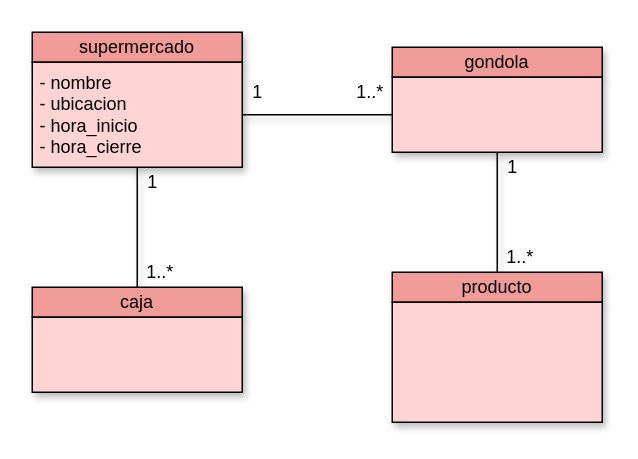
Some shapes in this 638 by 459 pixel diagram are drawn without their labels. Each missing label, with the centre of its shape:
"- identificador - señalización" belongs at point 498,116.
"- numero - encargado" belongs at point 138,356.
"- tipo - nombre - precio - precio_en_oferta - disponible" belongs at point 498,364.
